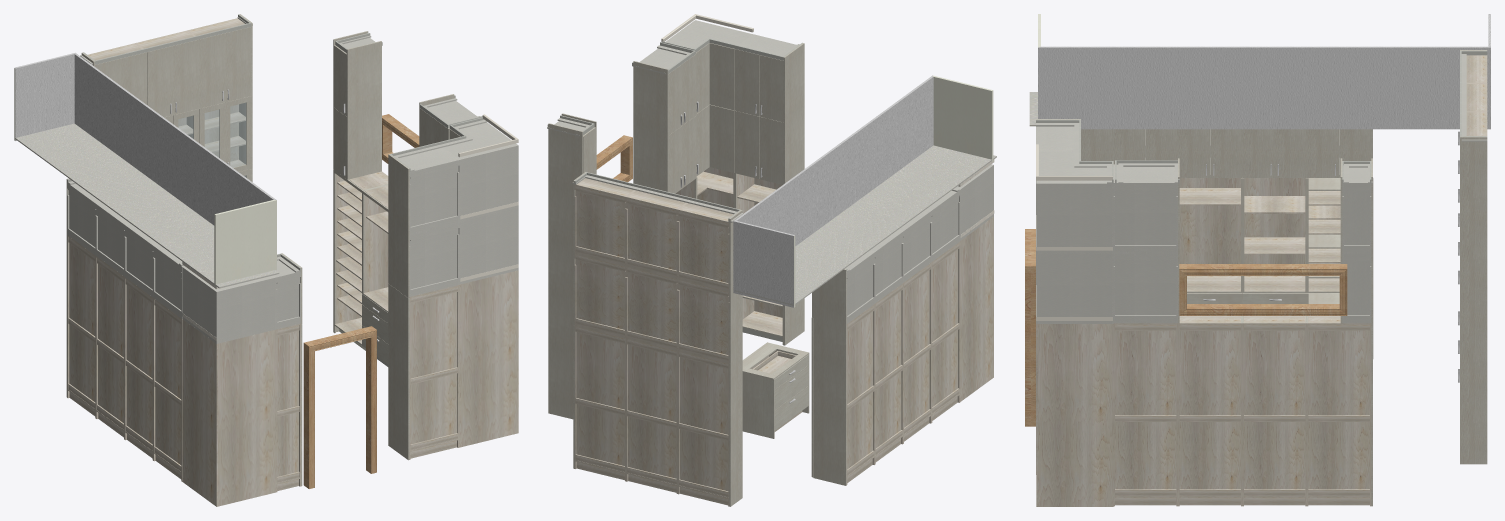
The model's file is master-closet.glb.
3 views of the same model, side by side, from view 1: azimuth 30°, elevation 25°; view 2: azimuth 150°, elevation 25°; view 3: azimuth 270°, elevation 25° (orthographic). The views are drawn at different scales.
Visible parts, largest first — view 1: master-closet.002, mv_master-closet_003, mv_master-closet_006, mv_master-closet_004, mv_master-closet_005, mv_master-closet_043, mv_master-closet_042, mv_master-closet_007, mv_master-closet_054, mv_master-closet_053, mv_master-closet_038; view 2: master-closet.002, mv_master-closet_050, mv_master-closet_051, mv_master-closet_012, mv_master-closet_010, mv_master-closet_011, mv_master-closet_009, mv_master-closet_015, mv_master-closet_013, mv_master-closet_014, mv_master-closet_016, mv_master-closet_002 (+3 smaller); view 3: master-closet.002, mv_master-closet_020, mv_master-closet_022, mv_master-closet_023, mv_master-closet_025, mv_master-closet_021, mv_master-closet_024, mv_master-closet_018, mv_master-closet_052, mv_master-closet_019, mv_master-closet_034, mv_master-closet_035.
Boxes of the visible parts, left/top/right/bottom form: master-closet.002: left=14, top=14, right=518, bottom=506; mv_master-closet_003: left=225, top=27, right=251, bottom=102; mv_master-closet_006: left=173, top=39, right=199, bottom=114; mv_master-closet_004: left=199, top=33, right=225, bottom=108; mv_master-closet_005: left=147, top=46, right=173, bottom=117; mv_master-closet_043: left=225, top=101, right=251, bottom=168; mv_master-closet_042: left=199, top=103, right=225, bottom=161; mv_master-closet_007: left=121, top=52, right=146, bottom=104; mv_master-closet_054: left=334, top=45, right=346, bottom=116; mv_master-closet_053: left=334, top=108, right=346, bottom=178; mv_master-closet_038: left=164, top=96, right=251, bottom=175; master-closet.002: left=547, top=14, right=996, bottom=506; mv_master-closet_050: left=696, top=104, right=734, bottom=175; mv_master-closet_051: left=696, top=43, right=734, bottom=113; mv_master-closet_012: left=734, top=110, right=759, bottom=178; mv_master-closet_010: left=734, top=49, right=759, bottom=116; mv_master-closet_011: left=759, top=116, right=783, bottom=184; mv_master-closet_009: left=759, top=55, right=783, bottom=122; mv_master-closet_015: left=682, top=115, right=696, bottom=188; mv_master-closet_013: left=668, top=64, right=682, bottom=135; mv_master-closet_014: left=682, top=53, right=696, bottom=125; mv_master-closet_016: left=668, top=126, right=682, bottom=193; mv_master-closet_002: left=753, top=351, right=808, bottom=389; master-closet.002: left=1025, top=14, right=1490, bottom=506; mv_master-closet_020: left=1210, top=129, right=1242, bottom=177; mv_master-closet_022: left=1242, top=129, right=1274, bottom=177; mv_master-closet_023: left=1274, top=129, right=1306, bottom=177; mv_master-closet_025: left=1307, top=129, right=1338, bottom=177; mv_master-closet_021: left=1178, top=129, right=1209, bottom=177; mv_master-closet_024: left=1339, top=129, right=1371, bottom=177; mv_master-closet_018: left=1113, top=129, right=1145, bottom=164; mv_master-closet_052: left=1081, top=129, right=1113, bottom=160; mv_master-closet_019: left=1146, top=129, right=1177, bottom=160; mv_master-closet_034: left=1242, top=293, right=1308, bottom=303; mv_master-closet_035: left=1187, top=293, right=1242, bottom=303.
Size of the model in its own units: 4.77 by 4.31 by 5.51.
12 materials, 10 textured.
